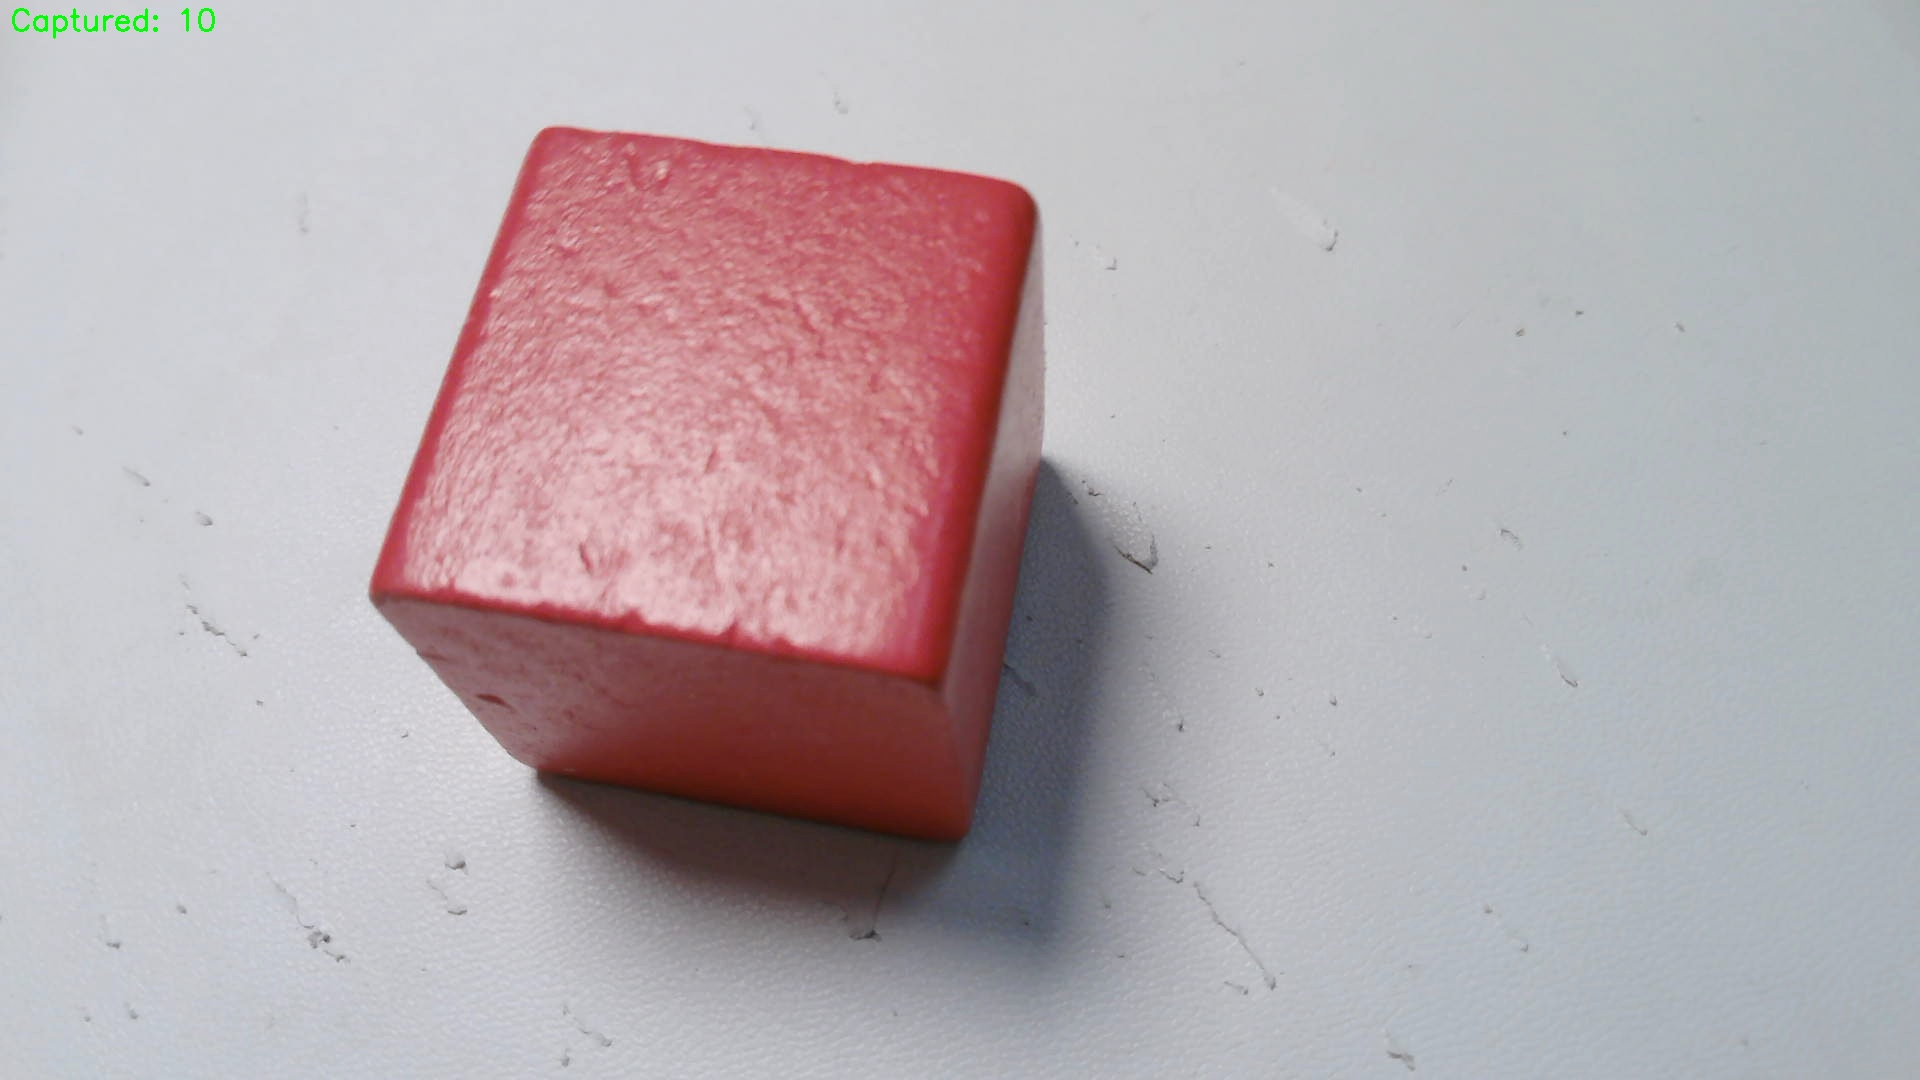red: (378, 129, 1044, 847)
